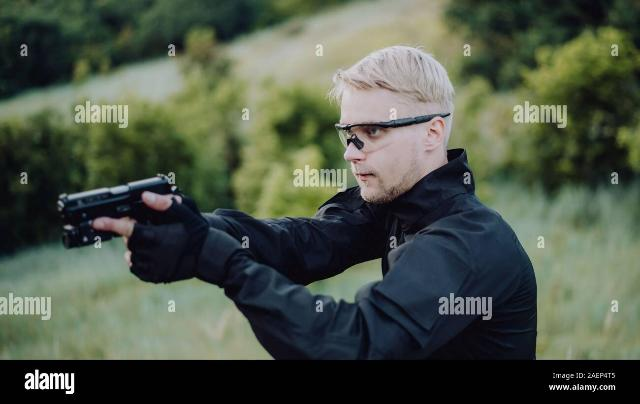handgun: (54, 170, 190, 252)
